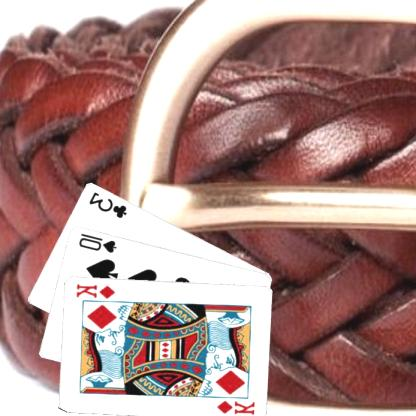10S: (77, 230, 120, 254)
3C: (88, 189, 130, 219)
KD: (75, 281, 118, 300), (216, 397, 257, 416)
